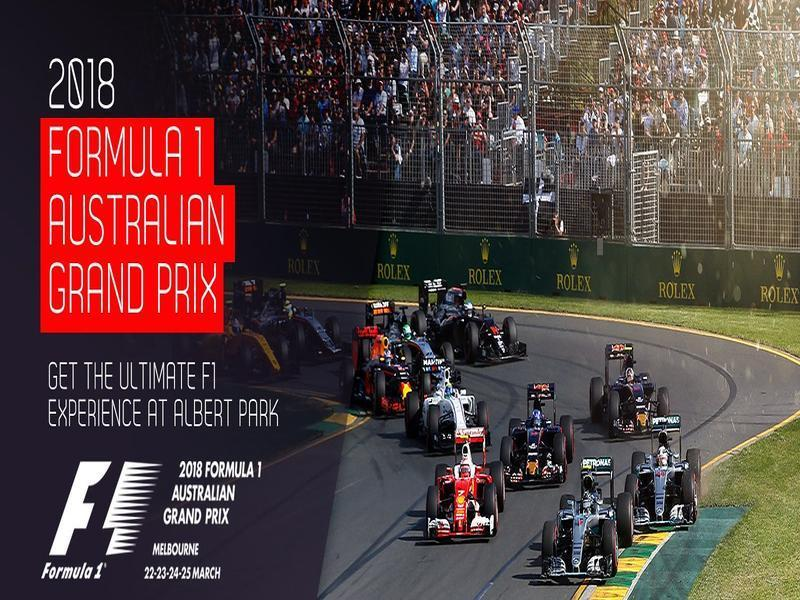f1: (537, 457, 636, 584), (397, 359, 503, 456), (417, 274, 527, 361), (627, 425, 711, 534), (417, 436, 504, 537), (587, 341, 673, 433), (506, 379, 571, 485)
